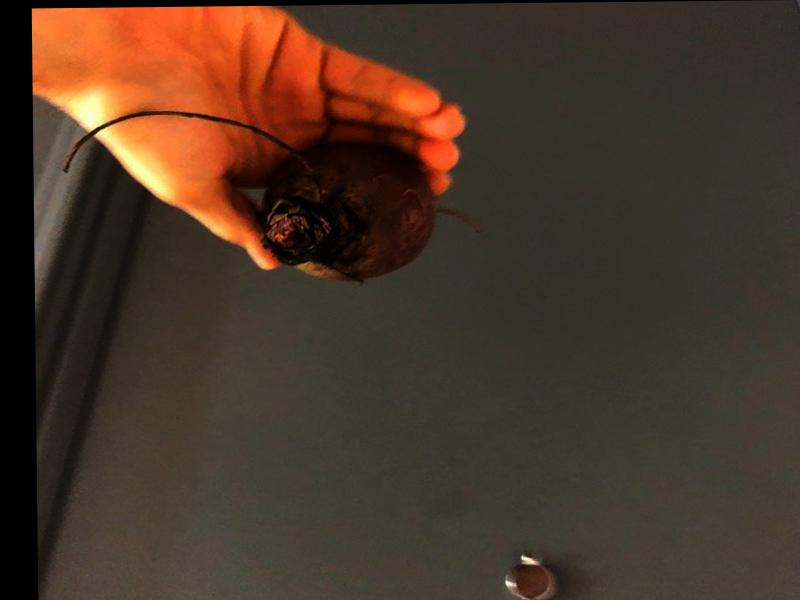Beet: (65, 105, 483, 283)
